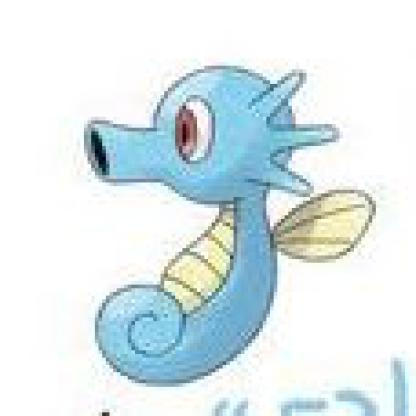Horsea: (80, 44, 376, 382)
